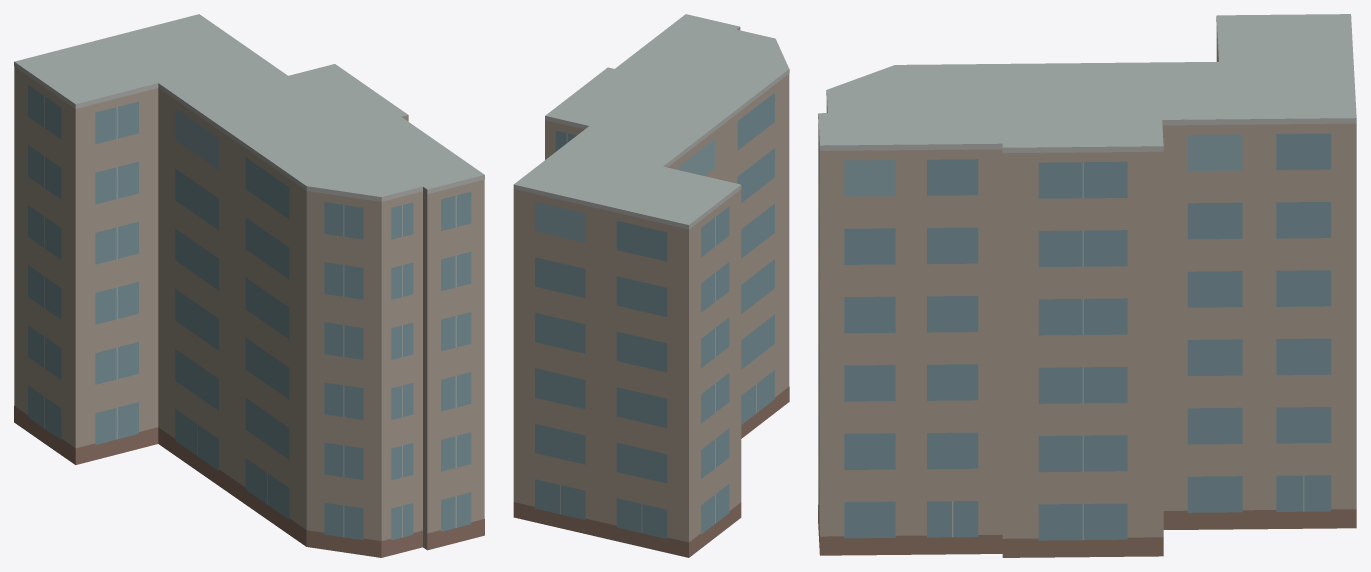
Rendered from survey-upis-32747430.glb.
3 views of the same model, side by side, from view 1: azimuth 30°, elevation 25°; view 2: azimuth 150°, elevation 25°; view 3: azimuth 270°, elevation 25° (orthographic). The views are drawn at different scales.
Visible parts, largest first — view 1: survey-upis-32747430.tmp; view 2: survey-upis-32747430.tmp; view 3: survey-upis-32747430.tmp.
Part boxes in pixels (x1=…): survey-upis-32747430.tmp: x1=14, y1=14, x2=484, y2=557; survey-upis-32747430.tmp: x1=513, y1=14, x2=789, y2=557; survey-upis-32747430.tmp: x1=818, y1=14, x2=1356, y2=557.
Size of the model in its own units: 12.95 by 18.5 by 22.02.
